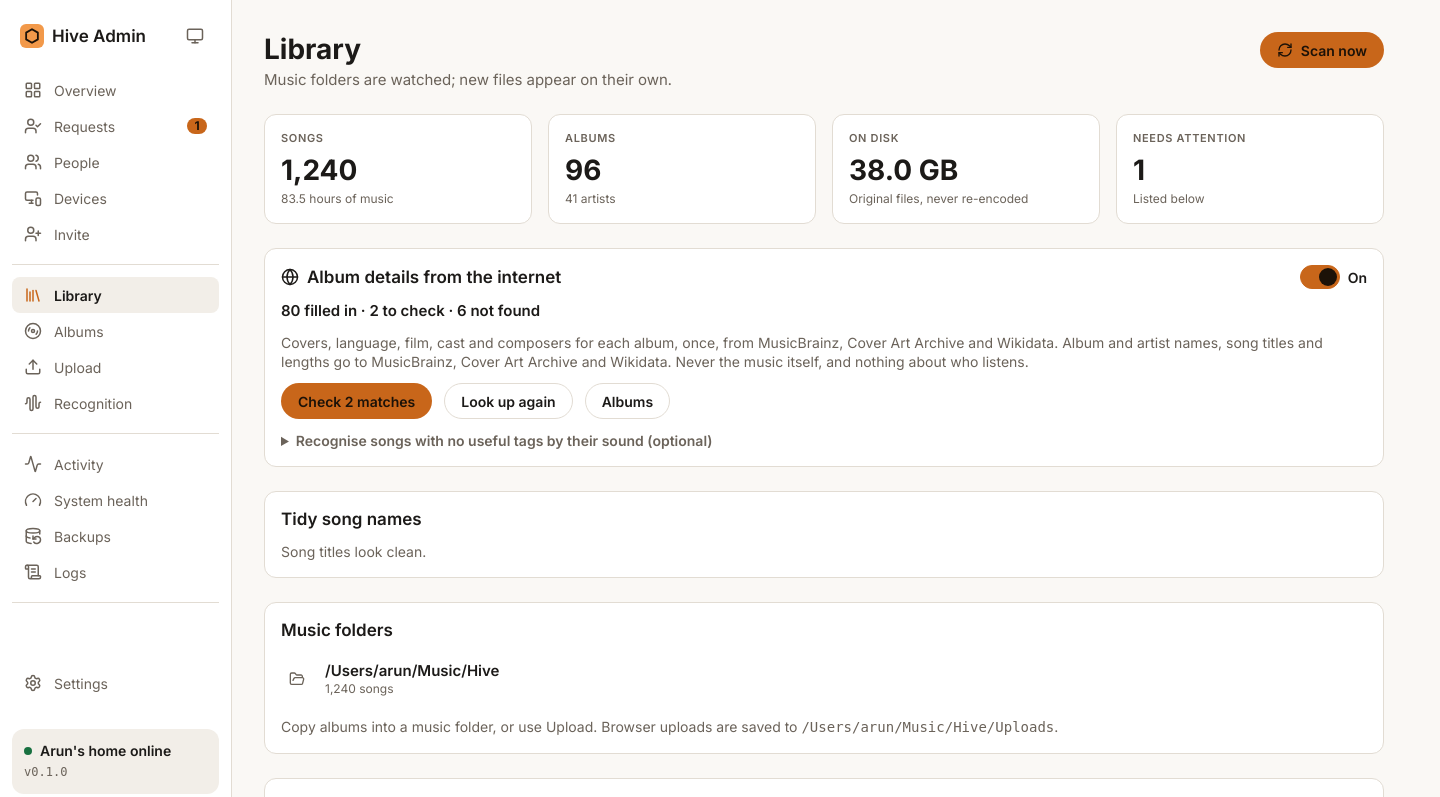
Lookup on the Library page › shows progress, what leaves home, and turns off
The width and height of the screenshot is (1440, 797).
Expected: the text "80 filled in · 2 to check · 6 not found" is shown, [281,301,540,320]
Expected: the text "Never the music itself" is shown, [281,334,1323,370]
Click the switch: (1320, 277) [1300,265,1340,289]
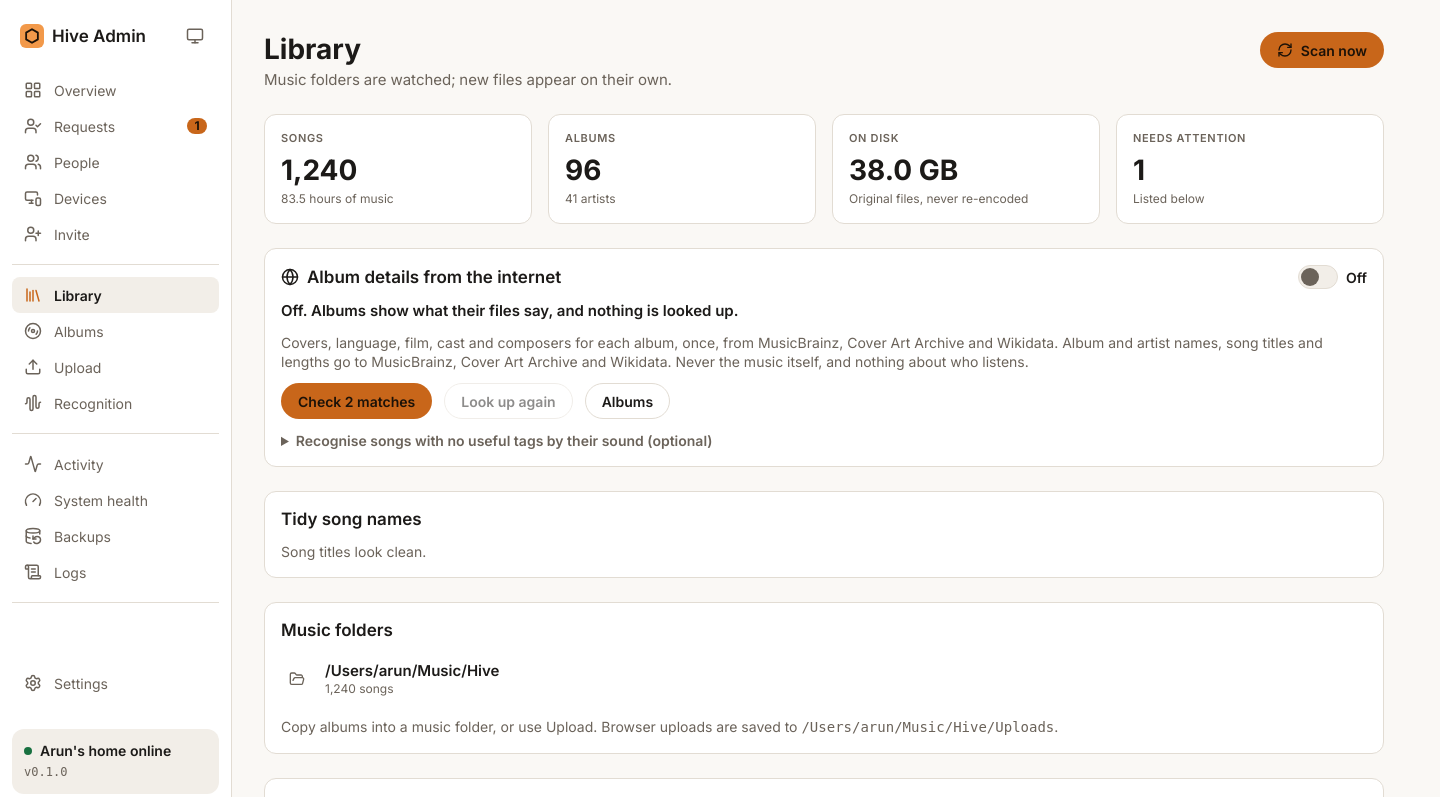
Expected: the text "Off. Albums show what their files say" is shown, [281,301,738,320]
